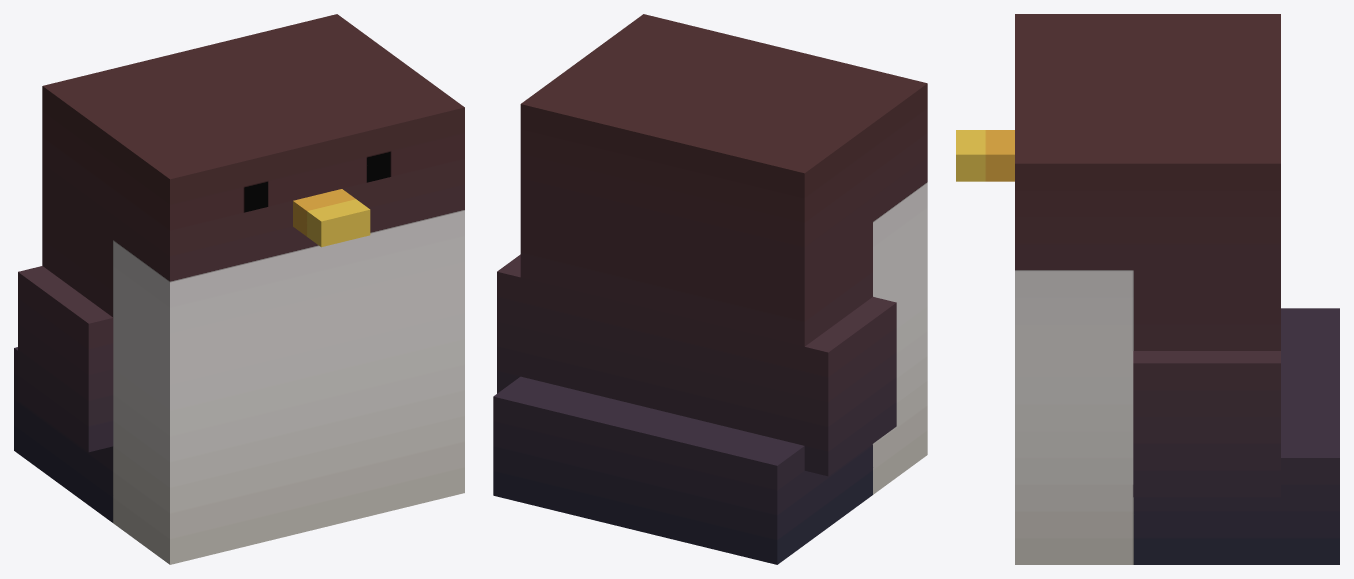
3 renders of one model, left to right at view 1: azimuth 30°, elevation 25°; view 2: azimuth 150°, elevation 25°; view 3: azimuth 270°, elevation 25°, orthographic. The views are drawn at different scales.
Visible parts, largest first — view 1: cr018; view 2: cr018; view 3: cr018.
Boxes of the visible parts, x1,y1,x2,y2 form: cr018: (14,14,464,564); cr018: (493,14,927,564); cr018: (956,14,1339,564).
Size of the model in its own units: 14 by 16 by 13.
